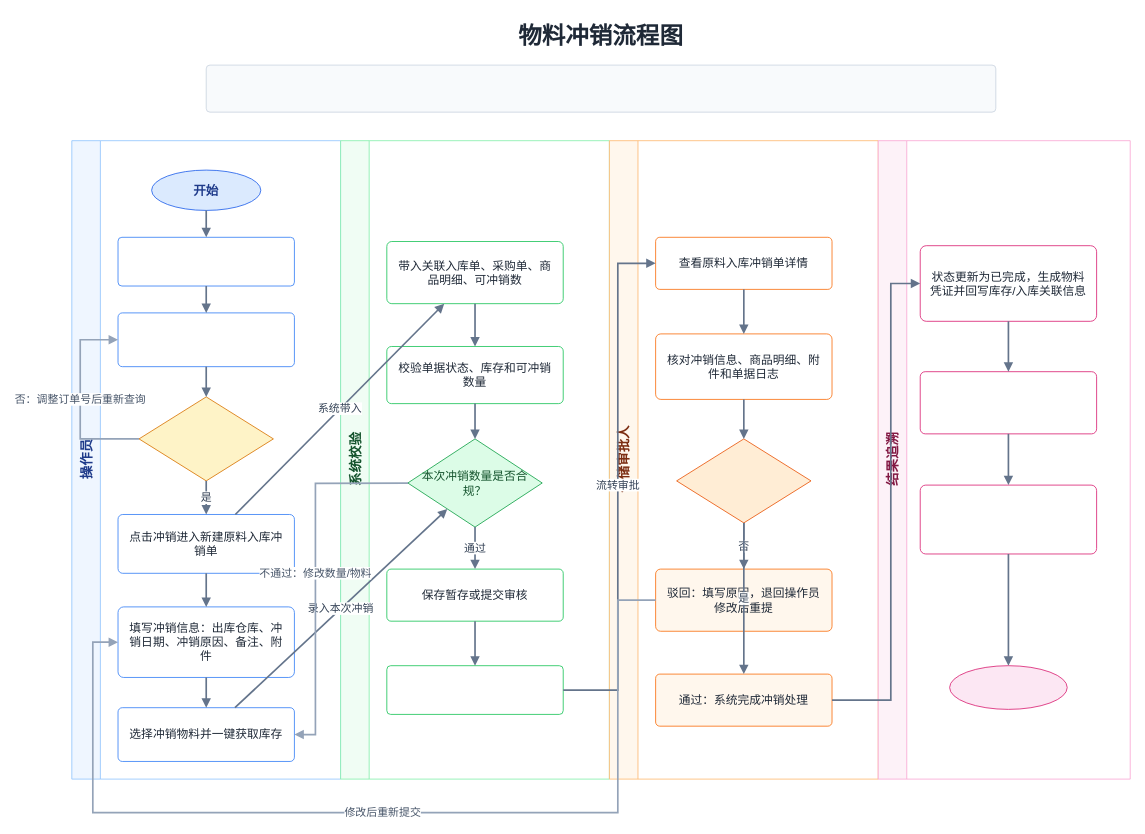
This 1145x834 diagram has some shape labels left out. The centre of each missing label's shape, as x and y in pixels:
单据状态变为审批中: (x=474, y=689)
审批是否通过？: (x=743, y=480)
按冲销单号、入库单号、采购单号查询追溯: (x=1008, y=402)
是否找到需冲销入库单？: (x=205, y=438)
查看冲销信息、审批流程、单据日志和商品明细: (x=1008, y=519)
结束: (x=1008, y=687)
输入调整订单号查询对应入库单: (x=205, y=339)
进入原料入库单页面: (x=205, y=261)
适用场景：原料入库单出现订单错误、质量问题等情况，需要发起原料入库冲销并完成审批追溯。: (x=600, y=88)
